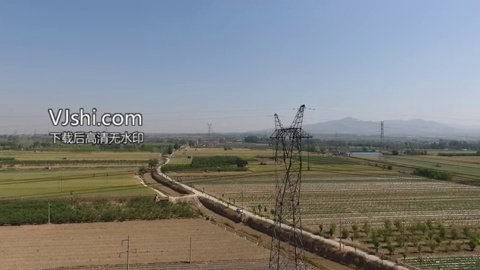tower_body: (264, 103, 314, 270)
tower_foot: (270, 240, 308, 269)
tower_head: (266, 106, 310, 185)
